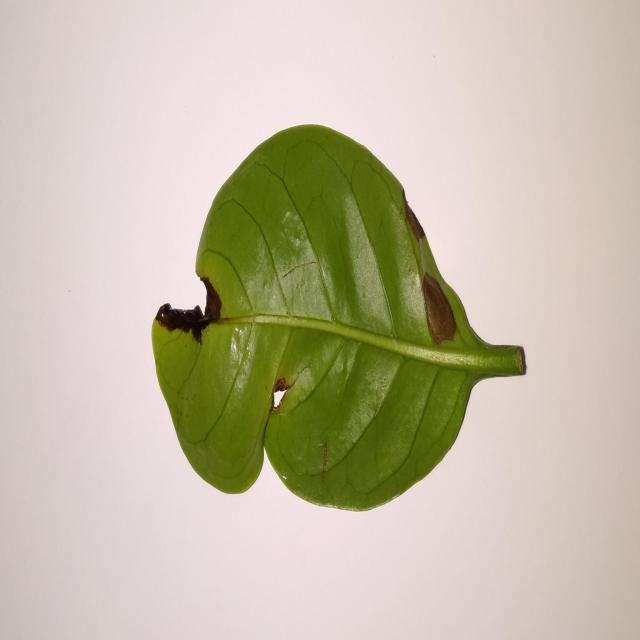Enfermedad-Antracnosis: (150, 127, 528, 515)
